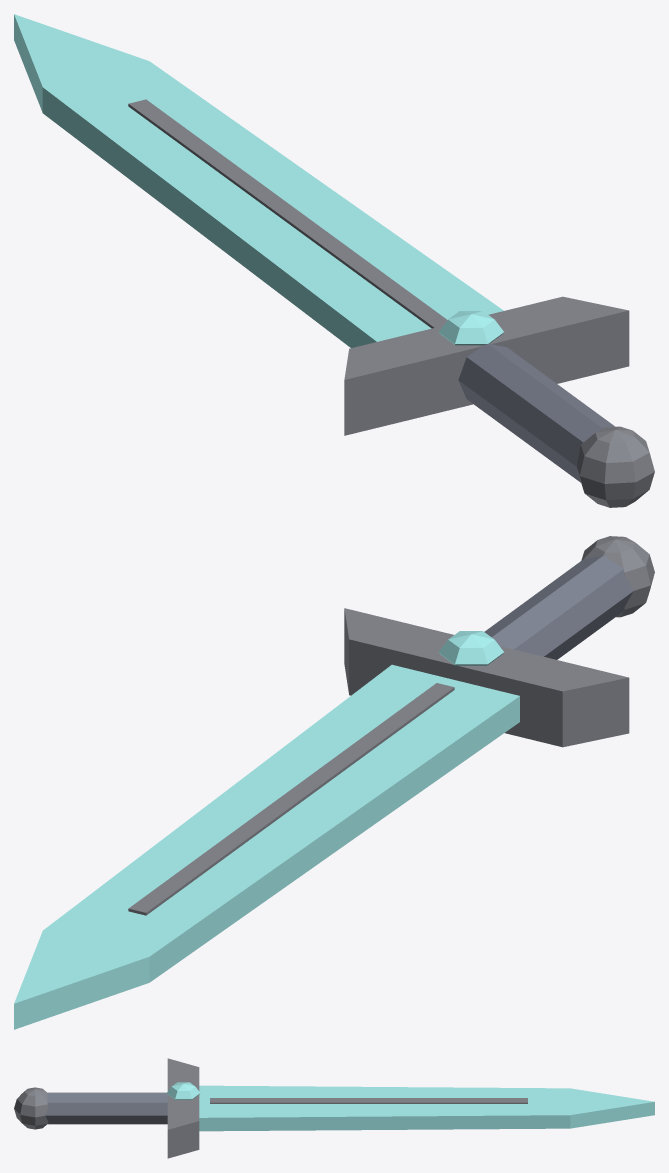
The model's file is diamond_sword_held.gltf.
The picture shows the model from 3 angles, top to bottom: view 1: azimuth 30°, elevation 25°; view 2: azimuth 150°, elevation 25°; view 3: azimuth 270°, elevation 25°; orthographic projection. The views are drawn at different scales.
Visible parts, largest first — view 1: furnace_diamond_sword_held; view 2: furnace_diamond_sword_held; view 3: furnace_diamond_sword_held.
Boxes of the visible parts, x1,y1,x2,y2 form: furnace_diamond_sword_held: (14, 14, 654, 507); furnace_diamond_sword_held: (14, 536, 654, 1029); furnace_diamond_sword_held: (14, 1058, 654, 1158).
Bounding box in the file's own units: 0.16 × 0.0456 × 0.605.
